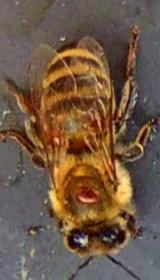varroa_mite: (30, 122, 74, 149), (63, 184, 109, 206)
